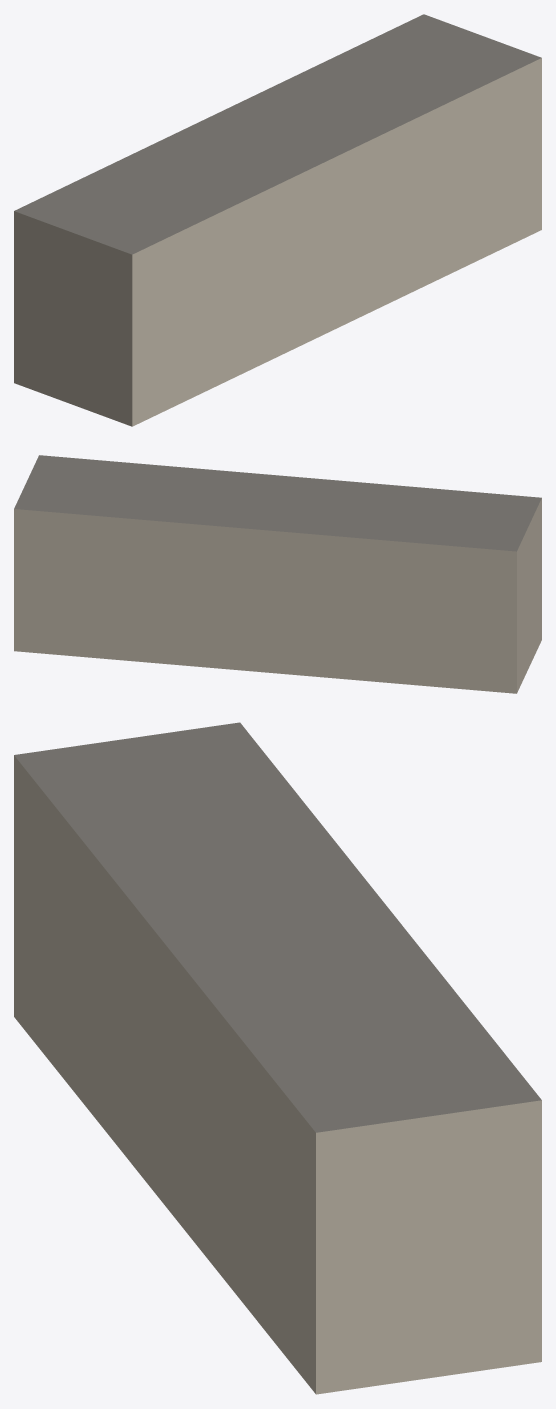
3 renders of one model, top to bottom at view 1: azimuth 30°, elevation 25°; view 2: azimuth 150°, elevation 25°; view 3: azimuth 270°, elevation 25°, orthographic. The views are drawn at different scales.
Parts seen in each view (by area): view 1: HP-w859488777; view 2: HP-w859488777; view 3: HP-w859488777.
Part boxes in pixels (<box>): HP-w859488777: <box>14,14,541,426</box>; HP-w859488777: <box>14,455,541,693</box>; HP-w859488777: <box>14,722,541,1394</box>.
Size of the model in its own units: 60.52 by 18 by 32.91.
